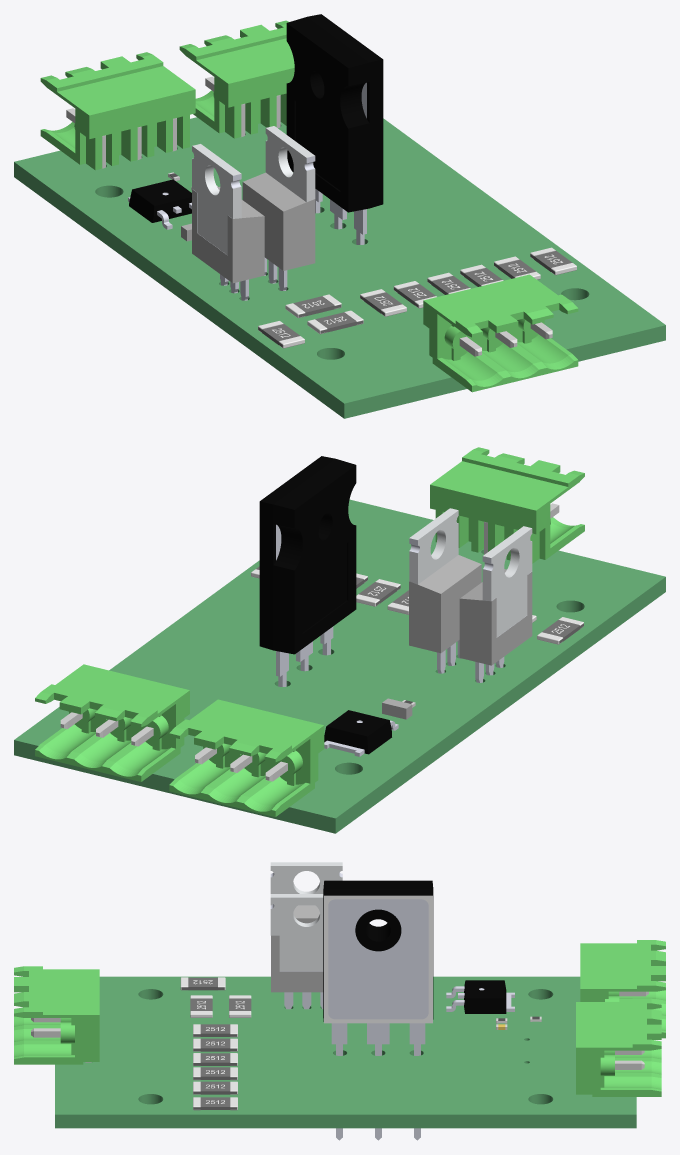
File: rkn.glb
3 views of the same model, one above another, from view 1: azimuth 30°, elevation 25°; view 2: azimuth 150°, elevation 25°; view 3: azimuth 270°, elevation 25° (orthographic). The views are drawn at different scales.
Visible parts, largest first — view 1: Node1, Node4, Node9, Node8, Node7, Node2, Node3, Node5, Node6, Node15; view 2: Node1, Node4, Node9, Node8, Node7, Node5, Node6, Node2, Node3, Node15; view 3: Node1, Node4, Node15, Node7, Node9, Node2, Node3, Node14, Node8, Node5, Node6.
Boxes of the visible parts, x1=… form: Node1: x1=14, y1=117, x2=665, y2=418; Node4: x1=40, y1=20, x2=578, y2=392; Node9: x1=129, y1=14, x2=383, y2=222; Node8: x1=181, y1=172, x2=315, y2=283; Node7: x1=192, y1=126, x2=315, y2=254; Node2: x1=258, y1=251, x2=572, y2=347; Node3: x1=258, y1=247, x2=576, y2=348; Node5: x1=66, y1=76, x2=552, y2=356; Node6: x1=128, y1=140, x2=315, y2=300; Node15: x1=315, y1=82, x2=366, y2=244; Node1: x1=14, y1=499, x2=665, y2=833; Node4: x1=35, y1=447, x2=584, y2=816; Node9: x1=259, y1=456, x2=391, y2=754; Node8: x1=382, y1=555, x2=532, y2=719; Node7: x1=409, y1=508, x2=532, y2=637; Node5: x1=60, y1=503, x2=559, y2=781; Node6: x1=324, y1=523, x2=531, y2=756; Node2: x1=255, y1=566, x2=583, y2=643; Node3: x1=251, y1=569, x2=583, y2=644; Node15: x1=276, y1=524, x2=333, y2=686; Node1: x1=55, y1=976, x2=636, y2=1128; Node4: x1=14, y1=940, x2=665, y2=1096; Node15: x1=328, y1=899, x2=428, y2=1140; Node7: x1=270, y1=862, x2=342, y2=970; Node9: x1=323, y1=880, x2=506, y2=1021; Node2: x1=181, y1=977, x2=251, y2=1109; Node3: x1=180, y1=977, x2=251, y2=1110; Node14: x1=324, y1=895, x2=432, y2=1023; Node8: x1=271, y1=905, x2=323, y2=992; Node5: x1=31, y1=991, x2=648, y2=1069; Node6: x1=270, y1=872, x2=514, y2=1011.
Bounding box in the file's own units: 46.1 × 39 × 91.95.
